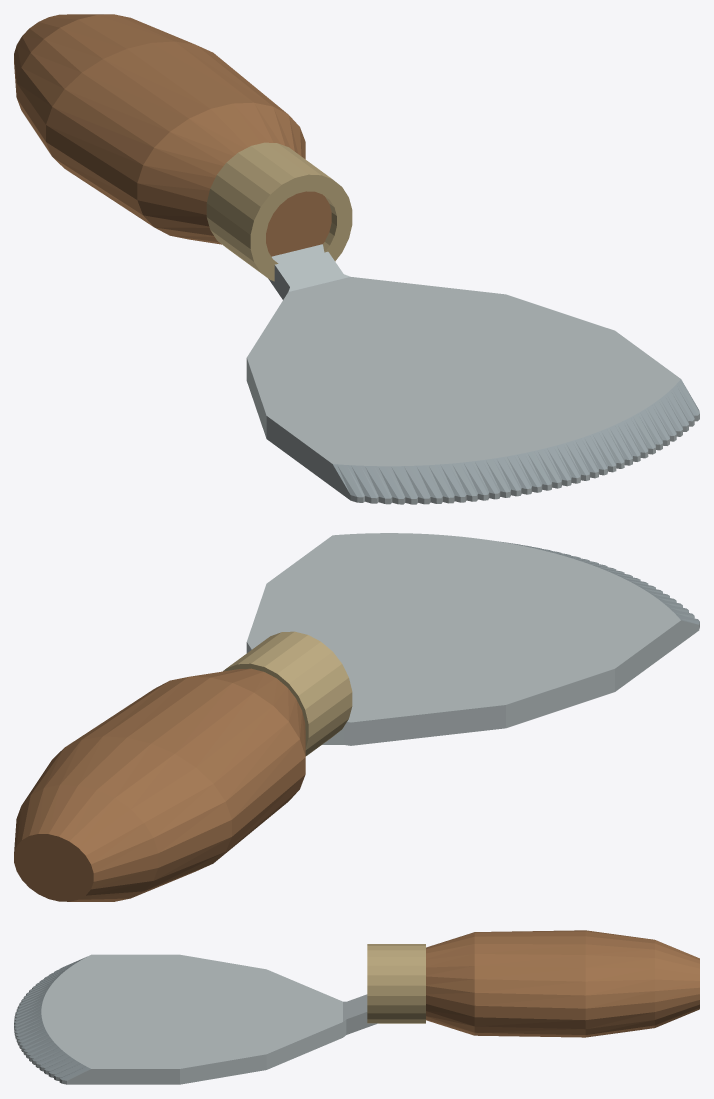
3 views of the same model, one above another, from view 1: azimuth 30°, elevation 25°; view 2: azimuth 150°, elevation 25°; view 3: azimuth 270°, elevation 25° (orthographic). The views are drawn at different scales.
Parts seen in each view (by area): view 1: WholeCurvedSerratedPlateRootAndTang, WholeShortRoundedPalmGrip, WholeThickFrontFerrule; view 2: WholeCurvedSerratedPlateRootAndTang, WholeShortRoundedPalmGrip, WholeThickFrontFerrule; view 3: WholeCurvedSerratedPlateRootAndTang, WholeShortRoundedPalmGrip, WholeThickFrontFerrule.
Boxes of the visible parts, box(x1,y1,x2,y2) form: WholeCurvedSerratedPlateRootAndTang: box(246, 244, 699, 504); WholeShortRoundedPalmGrip: box(14, 14, 331, 256); WholeThickFrontFerrule: box(206, 142, 352, 281); WholeCurvedSerratedPlateRootAndTang: box(246, 533, 699, 745); WholeShortRoundedPalmGrip: box(14, 668, 305, 901); WholeThickFrontFerrule: box(223, 631, 352, 756); WholeCurvedSerratedPlateRootAndTang: box(14, 954, 377, 1084); WholeShortRoundedPalmGrip: box(426, 930, 699, 1037); WholeThickFrontFerrule: box(367, 944, 425, 1023).
Bounding box in the file's own units: 0.078 × 0.0278 × 0.1979.
